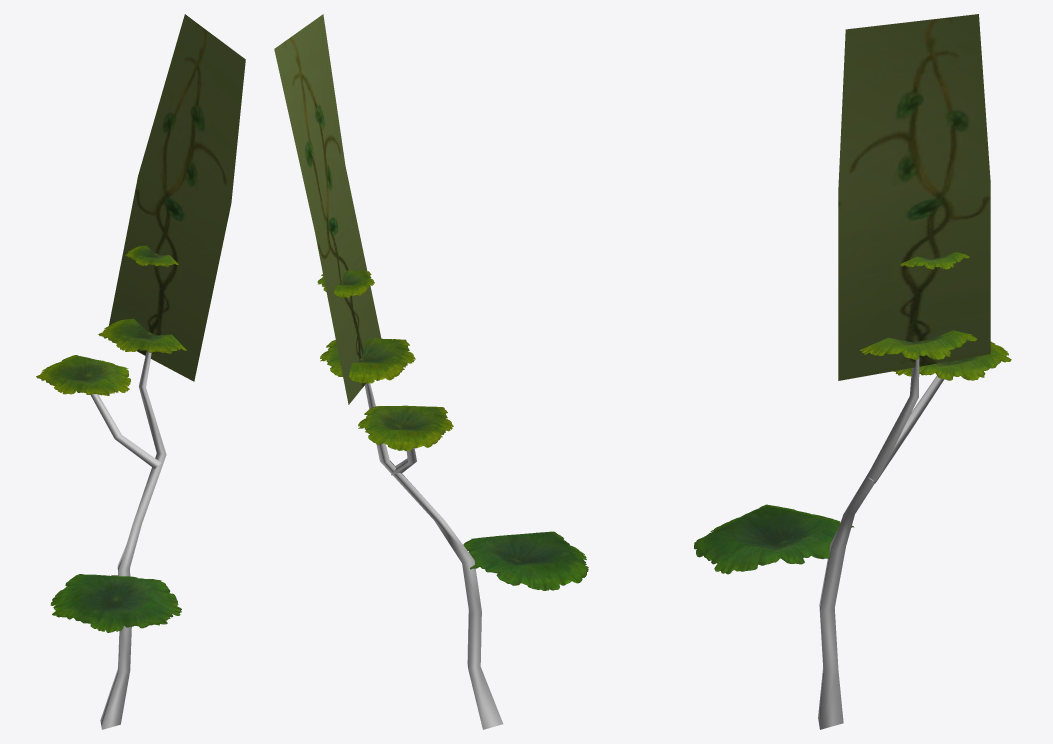
Rendered from environment_Tree_heye_003_d.FBX.
3 renders of one model, left to right at view 1: azimuth 30°, elevation 25°; view 2: azimuth 150°, elevation 25°; view 3: azimuth 270°, elevation 25°, orthographic. The views are drawn at different scales.
Visible parts, largest first — view 1: environment_Tree_heye_003_b, environment_Tree_heye_003_d, environment_Tree_heye_003_c, environment_Tree_heye_003_a; view 2: environment_Tree_heye_003_b, environment_Tree_heye_003_c, environment_Tree_heye_003_d, environment_Tree_heye_003_a; view 3: environment_Tree_heye_003_b, environment_Tree_heye_003_d, environment_Tree_heye_003_a, environment_Tree_heye_003_c.
Part boxes in pixels (x1,y1,x2,y2): environment_Tree_heye_003_b: [109, 14, 245, 381]; environment_Tree_heye_003_d: [50, 574, 181, 632]; environment_Tree_heye_003_c: [36, 245, 186, 395]; environment_Tree_heye_003_a: [90, 350, 166, 729]; environment_Tree_heye_003_b: [274, 14, 381, 404]; environment_Tree_heye_003_c: [317, 270, 453, 450]; environment_Tree_heye_003_d: [463, 531, 588, 590]; environment_Tree_heye_003_a: [364, 383, 503, 729]; environment_Tree_heye_003_b: [838, 14, 990, 380]; environment_Tree_heye_003_d: [694, 504, 854, 574]; environment_Tree_heye_003_a: [818, 356, 944, 729]; environment_Tree_heye_003_c: [859, 252, 1011, 380].
Bounding box in the file's own units: 113 × 281 × 124.
